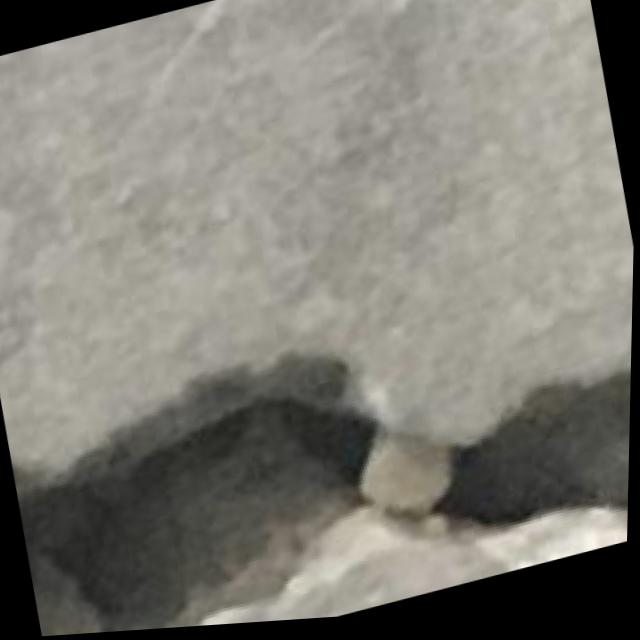Crack: (0, 256, 635, 639)
